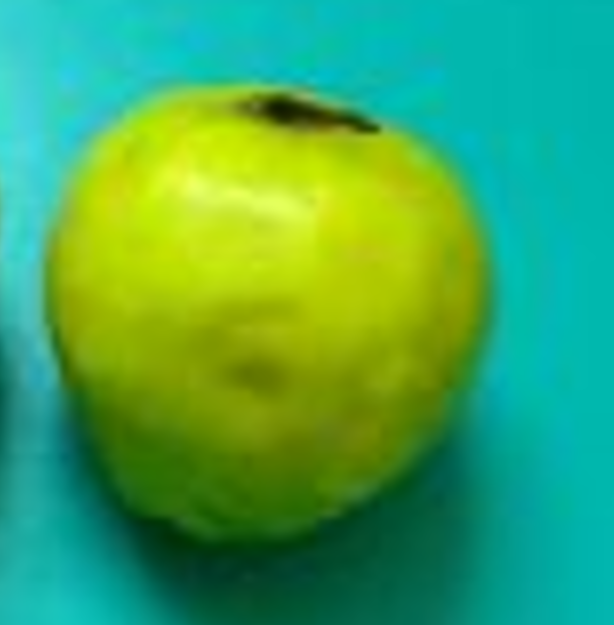guava_A: (43, 79, 497, 546)
